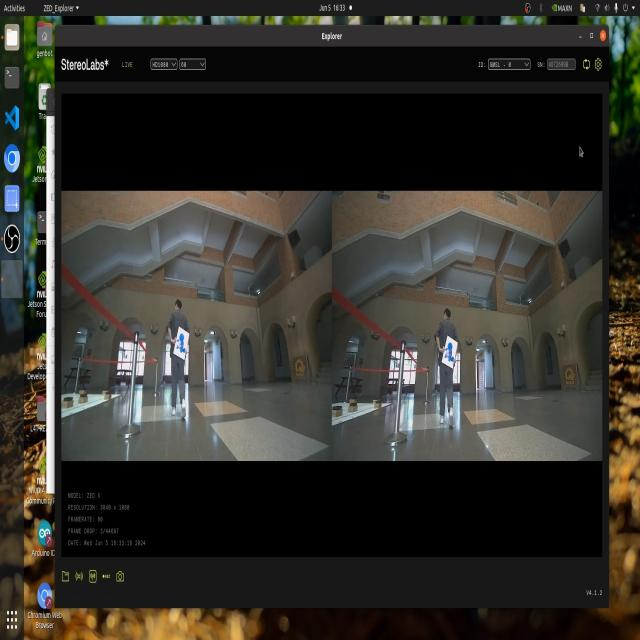blue: (170, 327, 193, 359), (443, 341, 463, 366)
